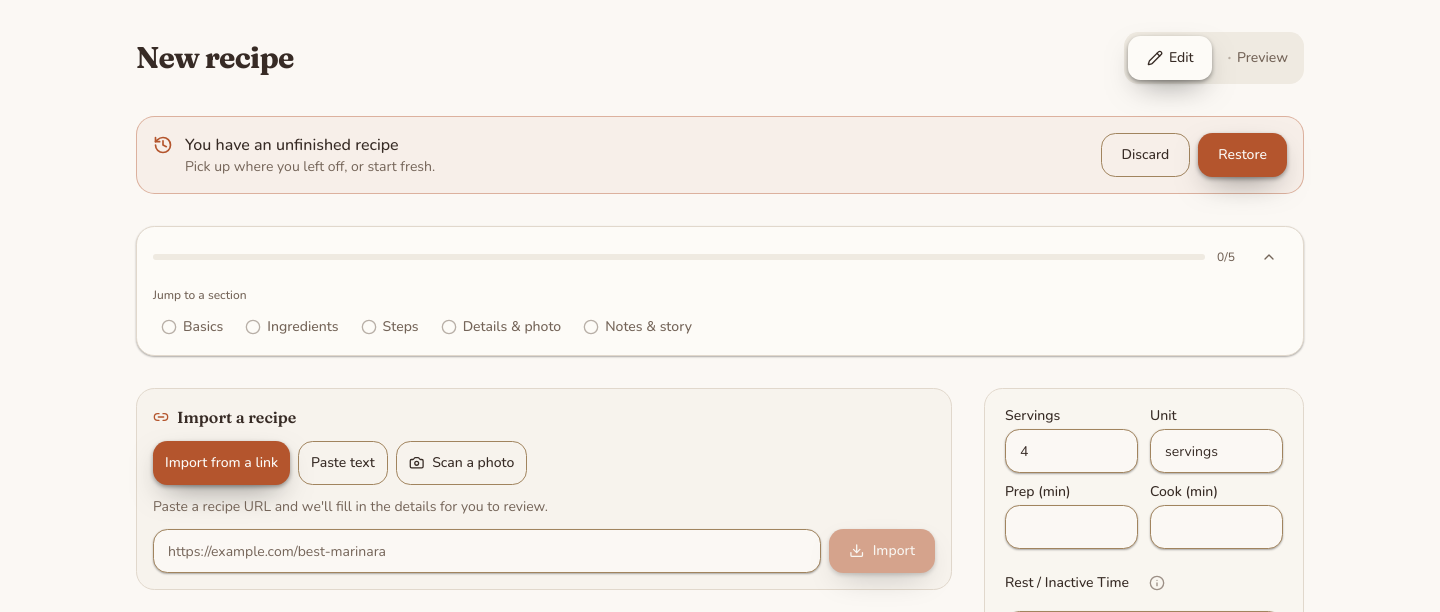
Test: RecipeEditor draft recovery and exit guard (#115) › restores a pre-source-image draft without deleting it as incompatible
expect the element "unfinished recipe" is shown: met, box [136,116,1304,194]
Click the button "Restore" at (1243, 155), box [1198,133,1287,177]
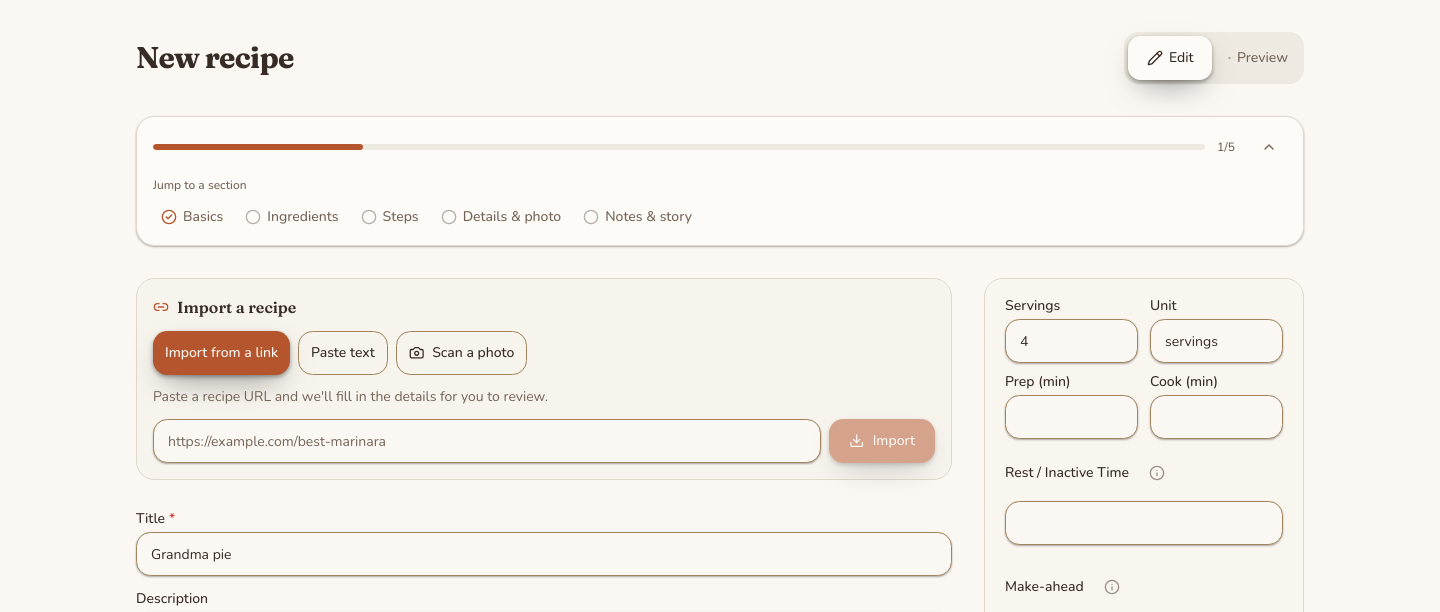
expect the field labelled "Title *" holds "Grandma pie": met, box [136,532,952,576]
